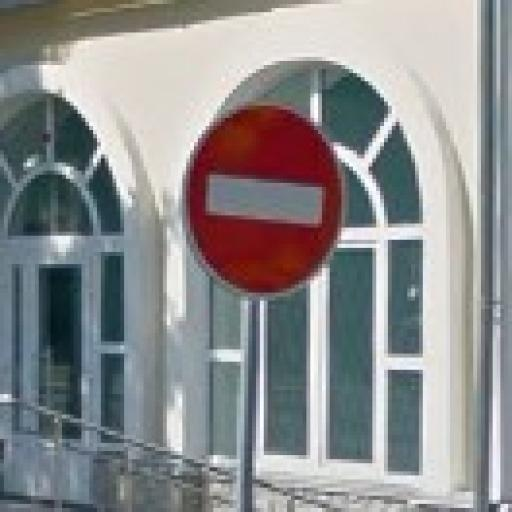traffic_sign: (183, 103, 350, 302)
